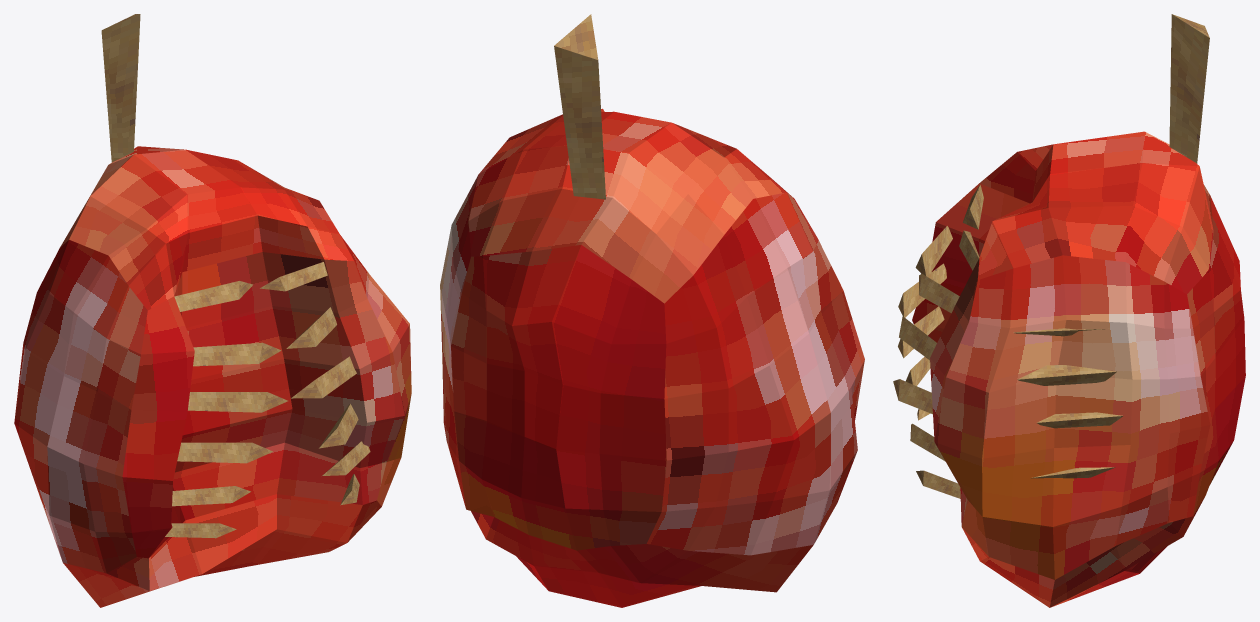
Rendered from carcass_01.obj.
3 views of the same model, side by side, from view 1: azimuth 30°, elevation 25°; view 2: azimuth 150°, elevation 25°; view 3: azimuth 270°, elevation 25° (orthographic). The views are drawn at different scales.
Parts seen in each view (by area): view 1: Carcass_Cube.002; view 2: Carcass_Cube.002; view 3: Carcass_Cube.002.
Boxes of the visible parts, x1,y1,x2,y2 form: Carcass_Cube.002: (14, 14, 411, 607); Carcass_Cube.002: (440, 14, 864, 607); Carcass_Cube.002: (893, 14, 1245, 607).
Bounding box in the file's own units: 3.16 × 4.82 × 2.89.
1 material, 1 textured.
